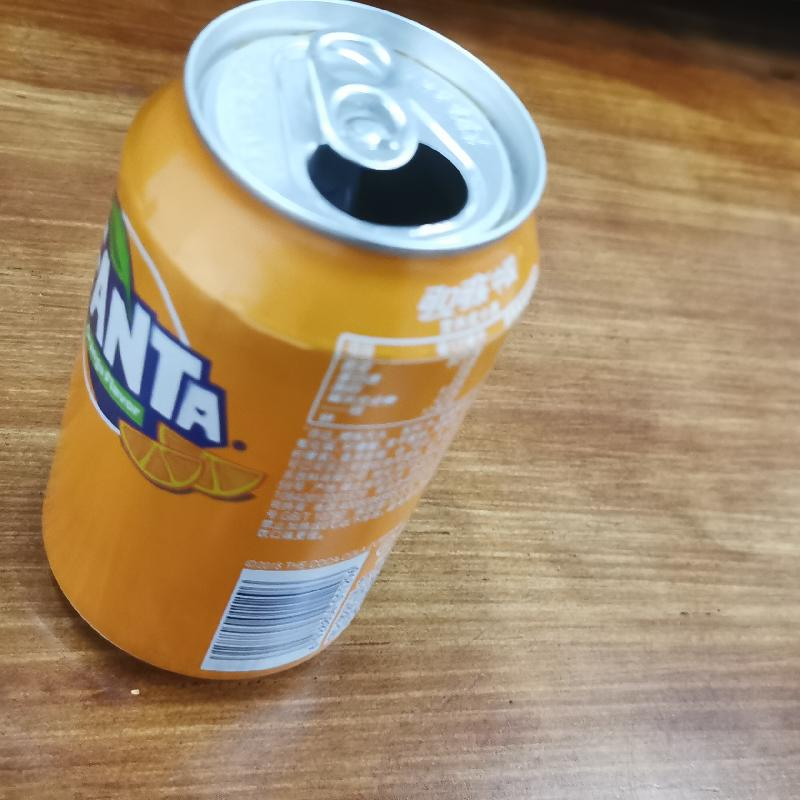cans: (34, 0, 551, 689)
